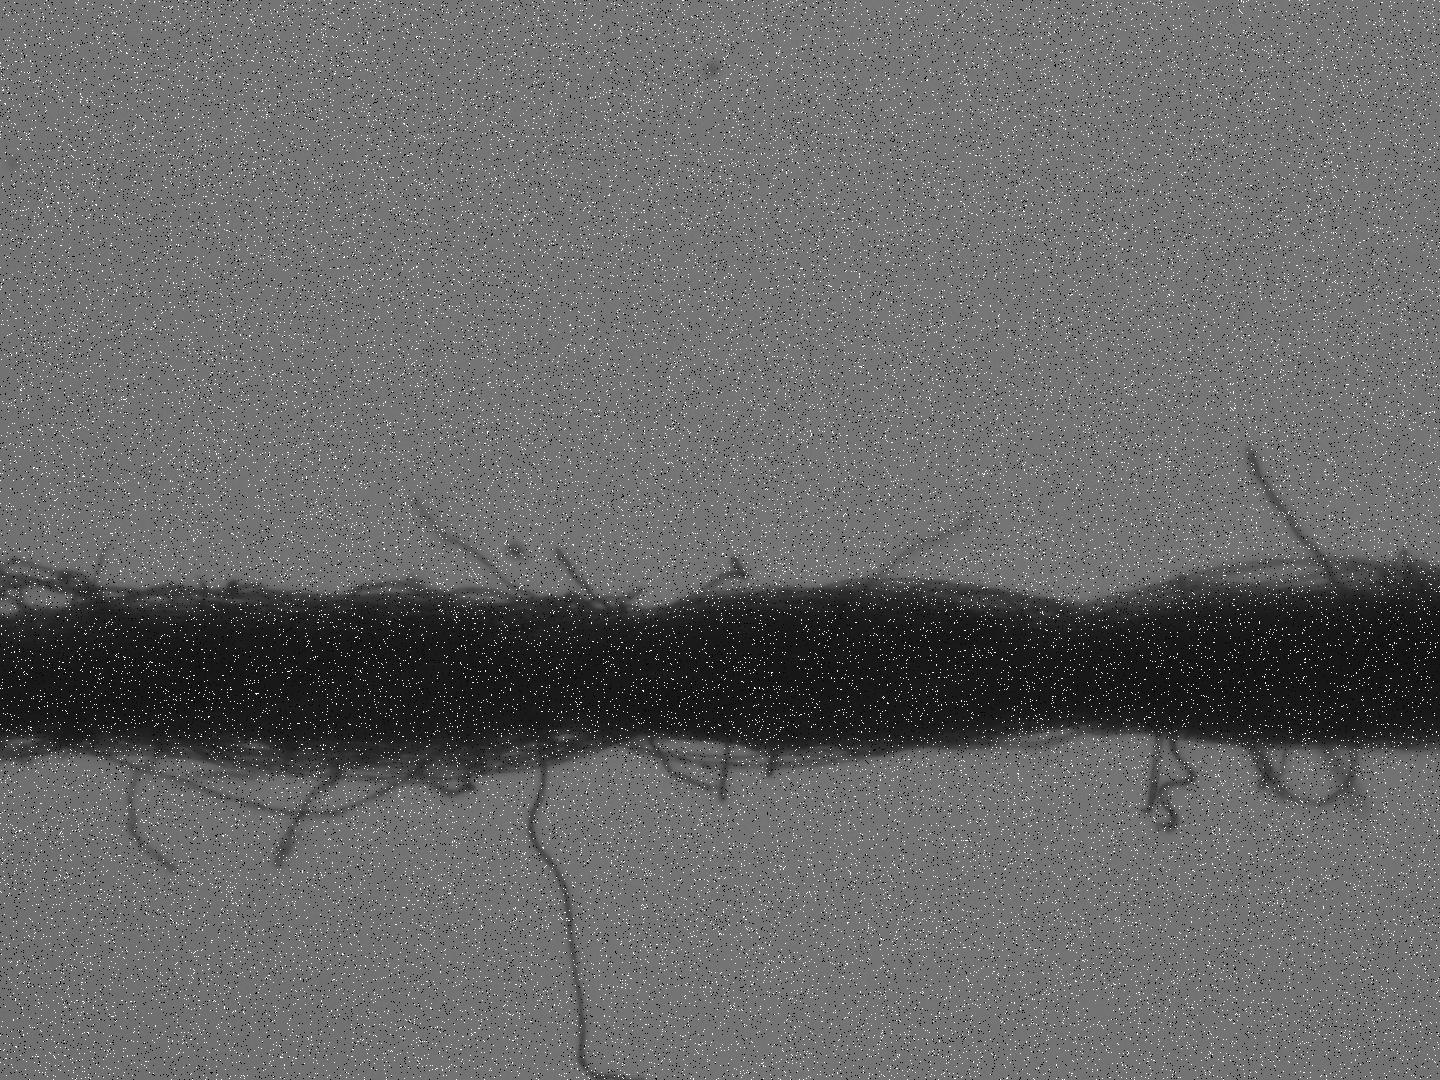loop_fiber: (74, 731, 443, 816), (1081, 556, 1416, 616), (624, 734, 871, 773), (1247, 743, 1361, 813), (200, 734, 409, 771), (1262, 565, 1435, 592), (20, 575, 112, 623), (952, 725, 1100, 752), (127, 585, 259, 614), (643, 740, 766, 765), (351, 580, 459, 608), (441, 592, 539, 616), (542, 731, 627, 756), (508, 597, 605, 616), (1388, 551, 1420, 591), (585, 596, 629, 614)
protruding_fiber: (530, 736, 622, 1080), (1245, 447, 1345, 588), (417, 500, 549, 604), (277, 762, 350, 870), (125, 739, 175, 871), (670, 554, 748, 604), (550, 555, 619, 605), (1144, 737, 1163, 815), (717, 735, 731, 799), (768, 751, 781, 782)
